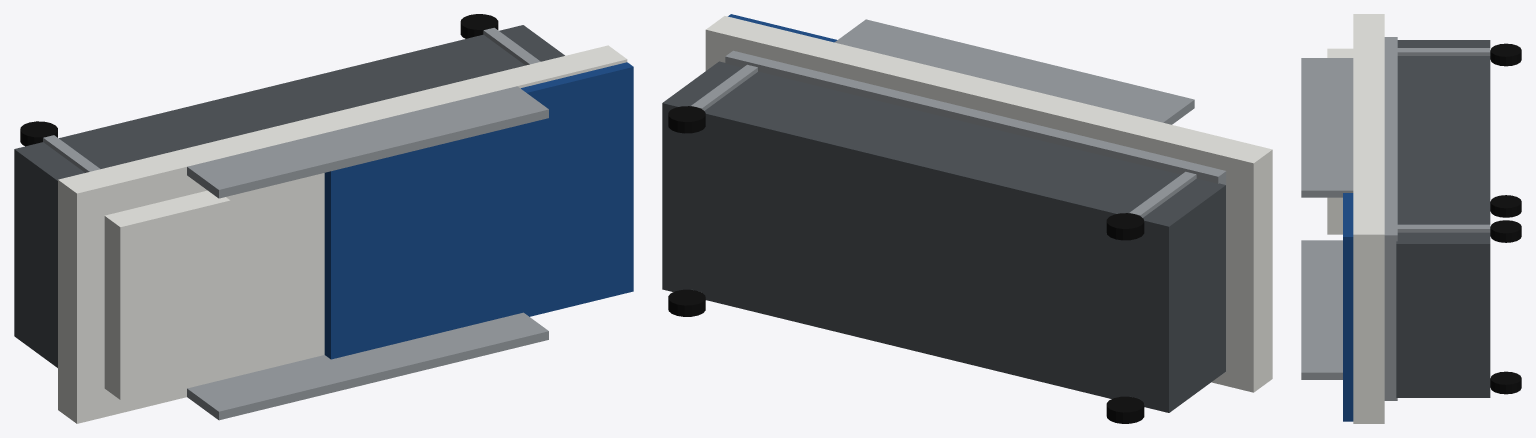
File: maca.obj
3 renders of one model, left to right at view 1: azimuth 30°, elevation 25°; view 2: azimuth 150°, elevation 25°; view 3: azimuth 270°, elevation 25°, orthographic. The views are drawn at different scales.
Parts seen in each view (by area): view 1: maca; view 2: maca; view 3: maca.
Boxes of the visible parts, x1,y1,x2,y2 form: maca: (14,14,633,423); maca: (662,14,1272,423); maca: (1301,14,1521,423).
Bounding box in the file's own units: 2 × 0.8 × 0.845.
